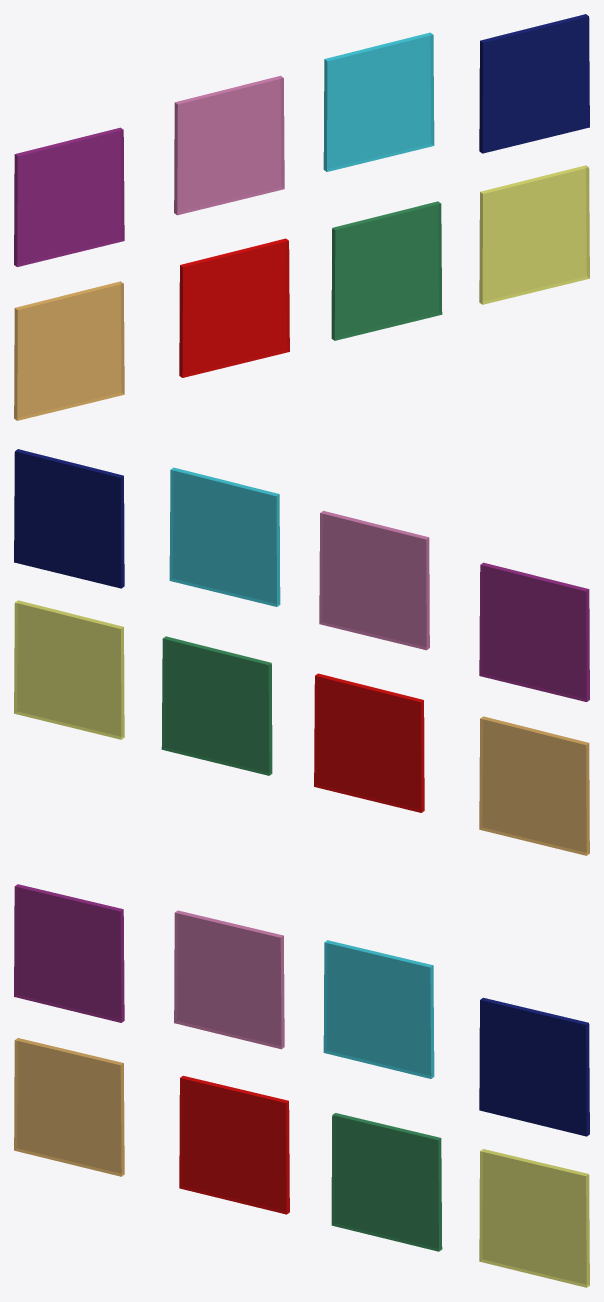
The model's file is Gelatines.fbx.
The picture shows the model from 3 angles, top to bottom: view 1: azimuth 30°, elevation 25°; view 2: azimuth 150°, elevation 25°; view 3: azimuth 330°, elevation 25°; orthographic projection.
Parts seen in each view (by area): view 1: Bleu_fonçe, Rouge, Jaune, Rose, Orange, Vert, Violet, Bleu; view 2: Bleu_fonçe, Rouge, Jaune, Rose, Orange, Vert, Violet, Bleu; view 3: Rouge, Bleu_fonçe, Jaune, Rose, Orange, Violet, Vert, Bleu.
Part boxes in pixels (x1,y1,x2,y2): Bleu_fonçe: (479, 14, 589, 153); Rouge: (179, 238, 289, 377); Jaune: (479, 165, 589, 304); Rose: (174, 75, 284, 215); Orange: (14, 281, 124, 420); Vert: (331, 201, 442, 340); Violet: (14, 127, 124, 266); Bleu: (323, 32, 434, 171); Bleu_fonçe: (14, 449, 124, 588); Rouge: (314, 673, 424, 812); Jaune: (14, 600, 124, 739); Rose: (319, 510, 429, 650); Orange: (479, 716, 589, 855); Vert: (161, 636, 272, 775); Violet: (479, 562, 589, 701); Bleu: (169, 467, 280, 606); Rouge: (179, 1075, 289, 1214); Bleu_fonçe: (479, 997, 589, 1136); Jaune: (479, 1149, 589, 1287); Rose: (174, 910, 284, 1049); Orange: (14, 1038, 124, 1176); Violet: (14, 884, 124, 1022); Vert: (331, 1113, 442, 1251); Bleu: (323, 940, 434, 1078).
Bounding box in the file's own units: 15.68 × 7.45 × 0.1492.
